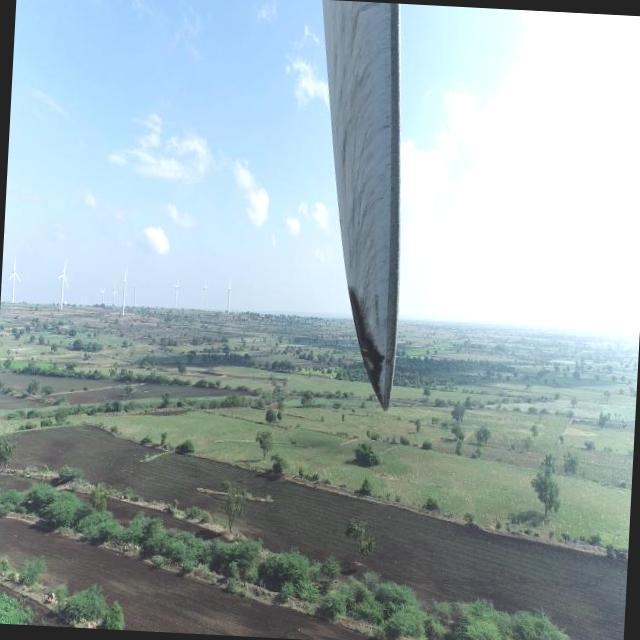Dirt: (322, 0, 400, 405)
Oil LEAKAGE: (348, 288, 385, 402)
Pin Hole: (378, 352, 393, 369)
